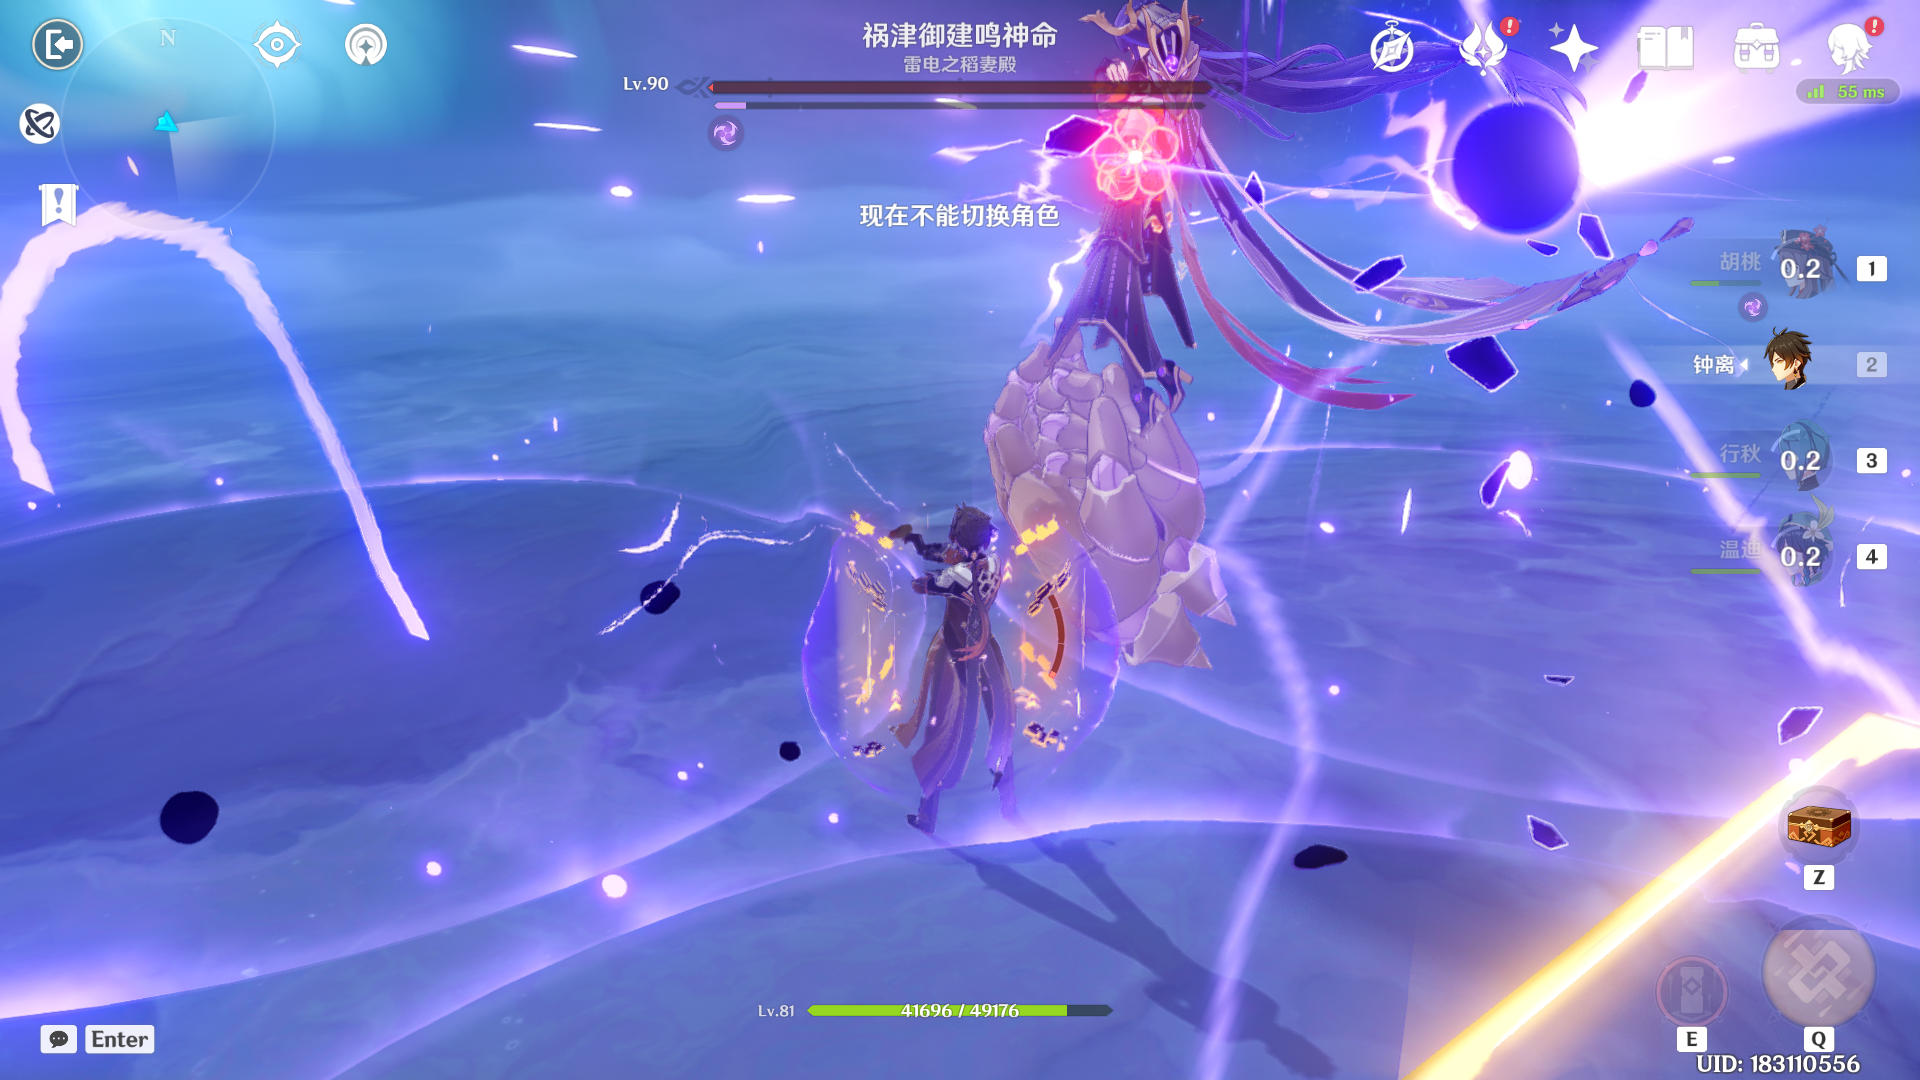character: (823, 444, 1095, 862)
